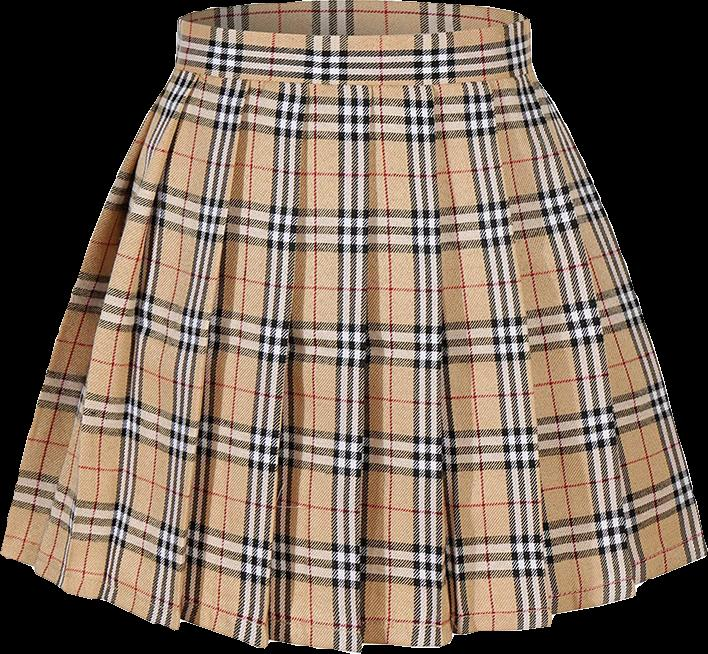Hemline: (0, 549, 707, 653)
Waistline: (171, 63, 538, 90), (178, 14, 525, 42)
